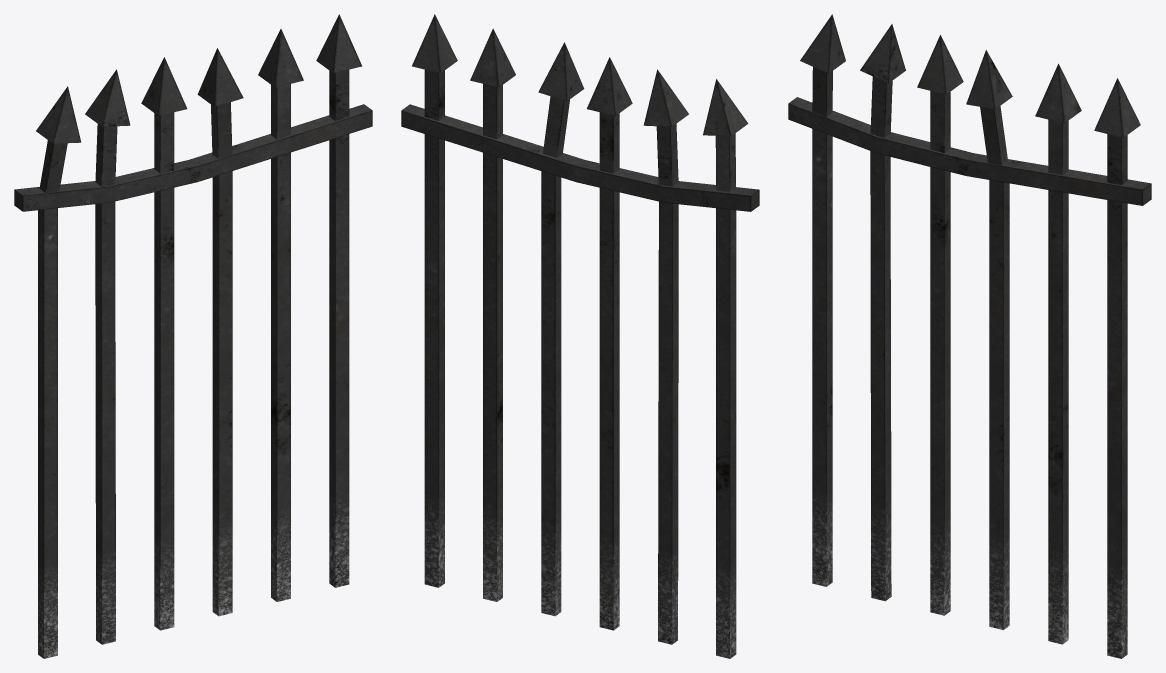
Rendered from Fence5.fbx.
3 views of the same model, side by side, from view 1: azimuth 30°, elevation 25°; view 2: azimuth 150°, elevation 25°; view 3: azimuth 330°, elevation 25° (orthographic).
Parts seen in each view (by area): view 1: Cube.038; view 2: Cube.038; view 3: Cube.038.
Part boxes in pixels (x1,y1,x2,y2): Cube.038: (14,14,372,658); Cube.038: (401,14,759,658); Cube.038: (788,14,1151,658).
Size of the model in its own units: 600 by 934 by 66.24.
